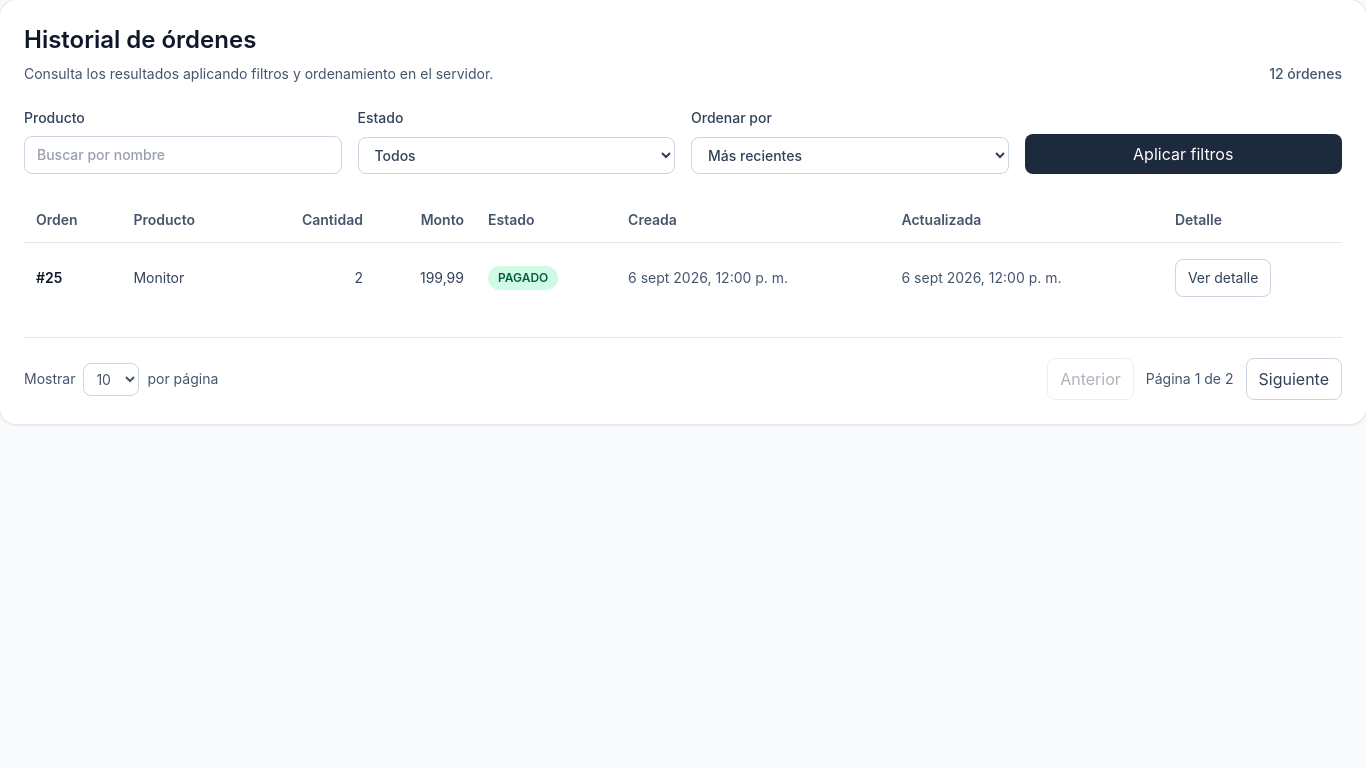
Test: OrderHistory › abre el modal de detalle de la orden seleccionada
Expected: the text "Monitor" is shown, [121, 243, 249, 313]
Click the button "Ver detalle": click(1223, 278) [1175, 259, 1271, 297]
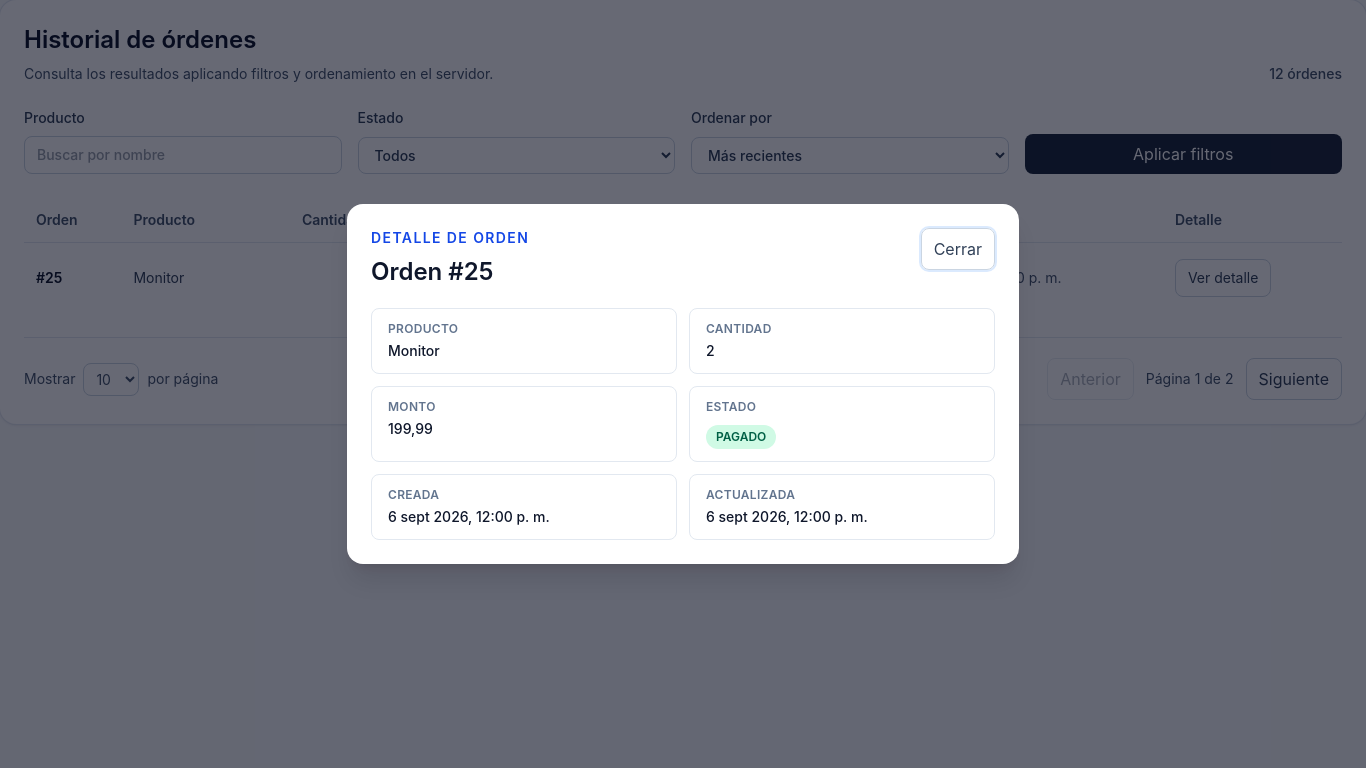
Now the dialog "Orden #25" is shown
